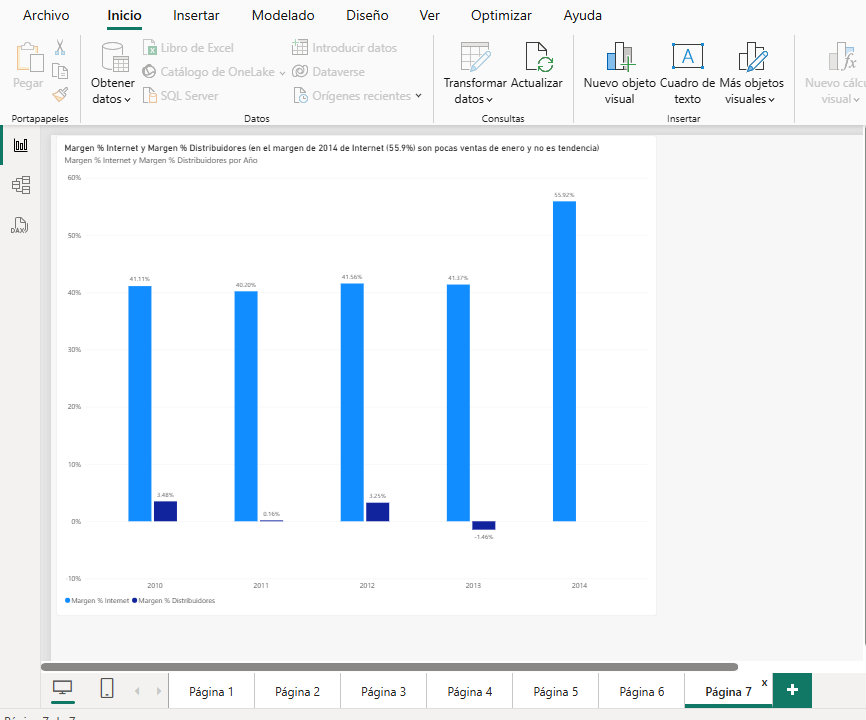

Layout of this report page (visuals, bound fields, positions):
{"tool":"powerbi","page":{"name":"Página 7","canvas":[1920,1080],"ordinal":6},"visuals":[{"type":"clusteredColumnChart","title":"Margen % Internet y Margen % Distribuidores  (en el margen de 2014 de Internet (55.9%) son pocas ventas de enero y no es tendencia)","fields":{"Category":["Fecha de Pedido.Calendar Year"],"Y":["Fact Internet Sales.Margen % Internet","Fact Reseller Sales.Margen % Distribuidores"]},"box":[10,0,1202,962],"z":0}]}

Visuals, with their boxes on the page's 1920x1080 design canvas (x1, y1, x2, y2). These are canvas units, not pixel positions in the 866x720 screenshot, which may show the page scaled, cropped or inside an application window:
"Margen % Internet y Margen % Distribuidores  (en el margen de 2014 de Internet (55.9%) son pocas ventas de enero y no es tendencia)" clusteredColumnChart: [left=10, top=0, right=1212, bottom=962]
